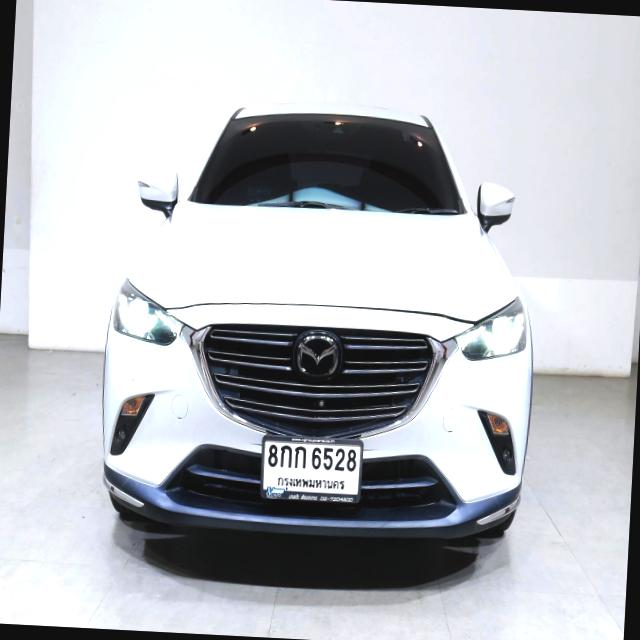license_plate: (258, 433, 364, 504)
